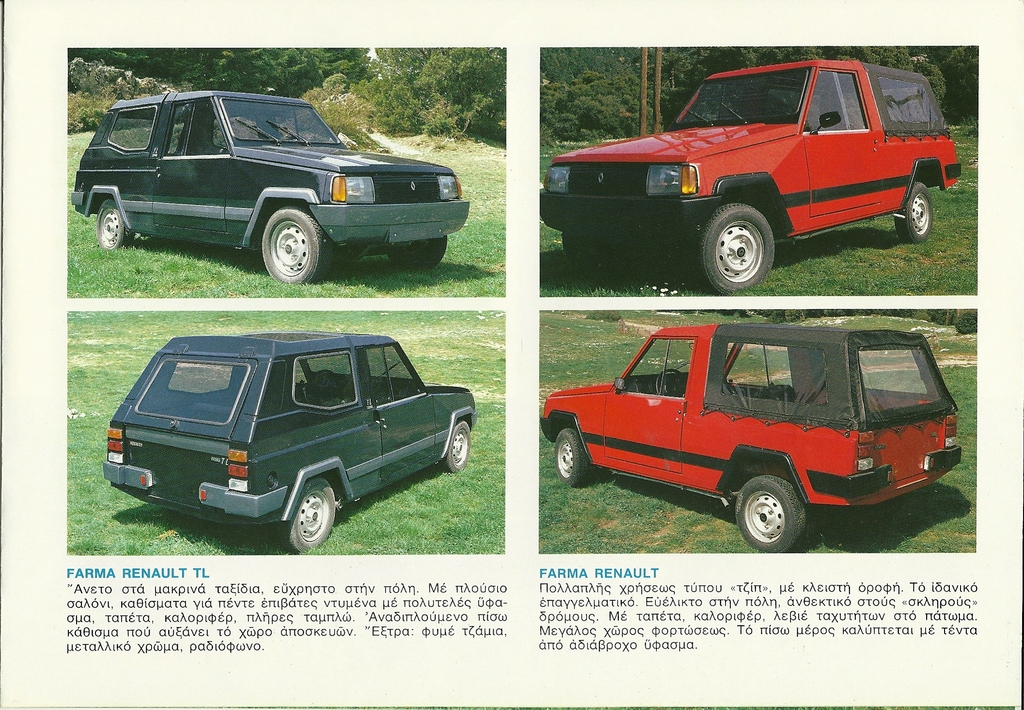Car: (540, 318, 965, 555), (535, 62, 968, 288), (88, 330, 478, 549), (67, 85, 473, 288)
